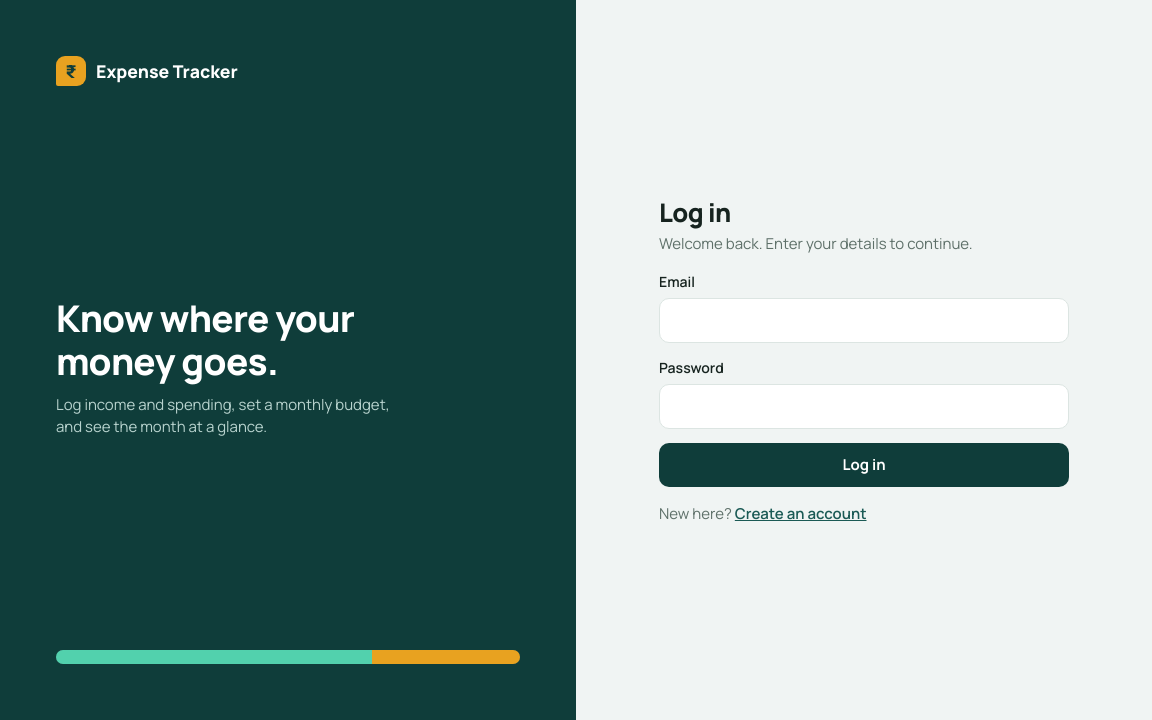
Login page › shows the server error for invalid credentials
The image size is (1152, 720).
Type "kiran@example.com" into the field labelled "Email" at (864,321), box [659, 298, 1069, 343]
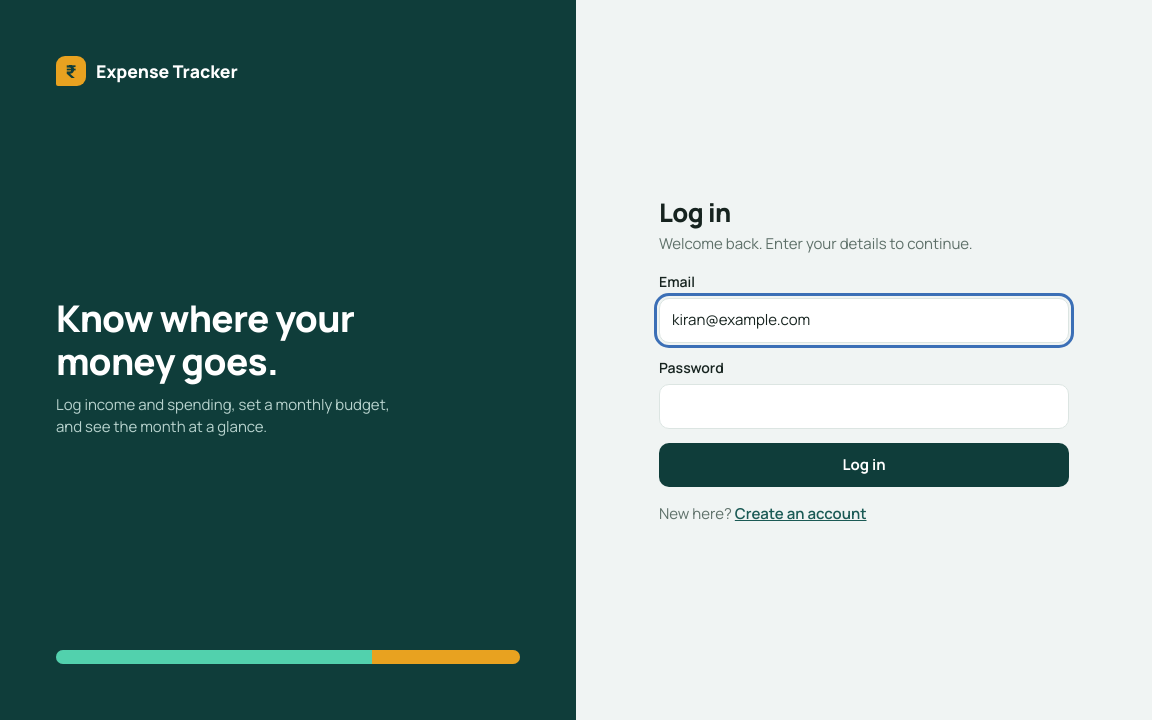
Type "WrongPass1" into the password field labelled "Password" at (864,406), box [659, 384, 1069, 428]
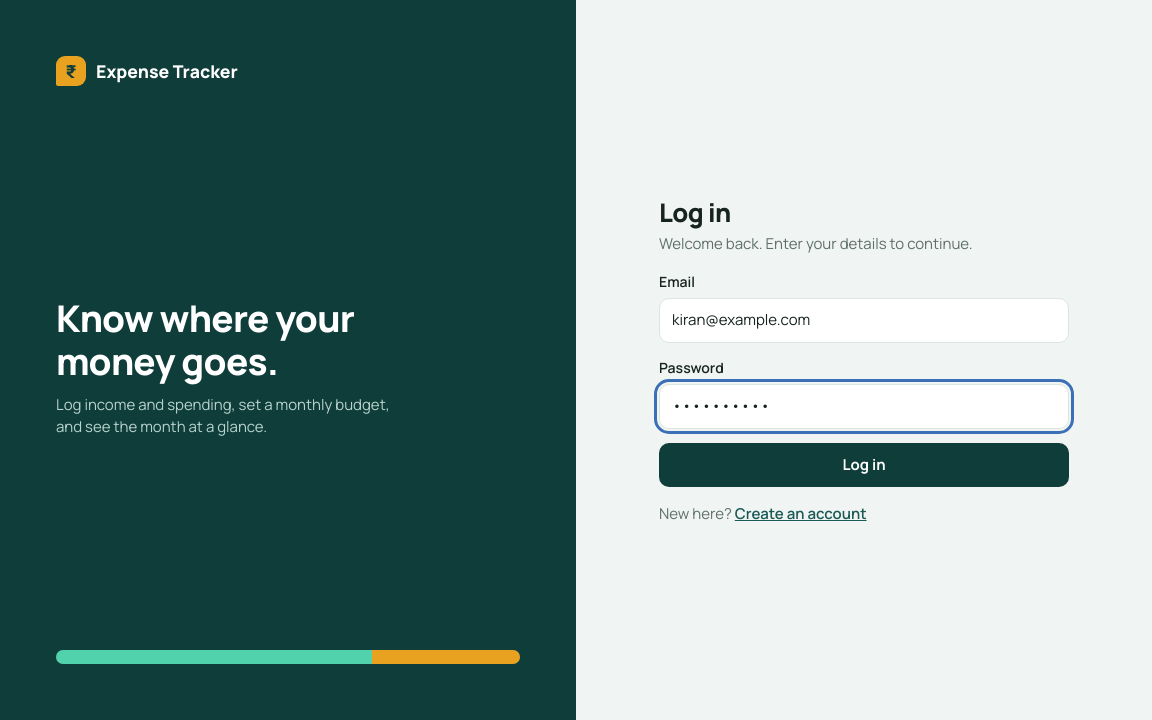
Click the button "Log in" at (864,465), box [659, 442, 1069, 487]
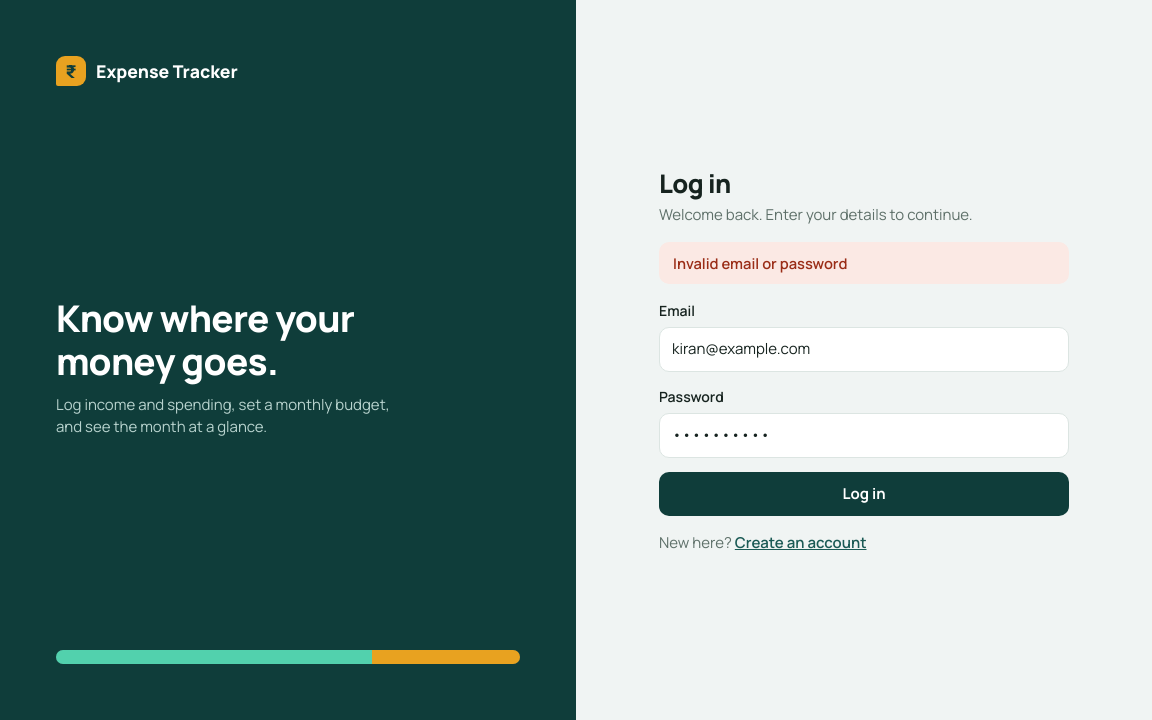
Expected: the message reads "Invalid email or password", [673, 253, 847, 273]
